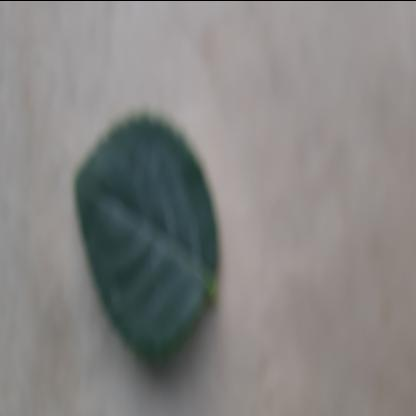downy-mildew: (74, 106, 220, 372)
